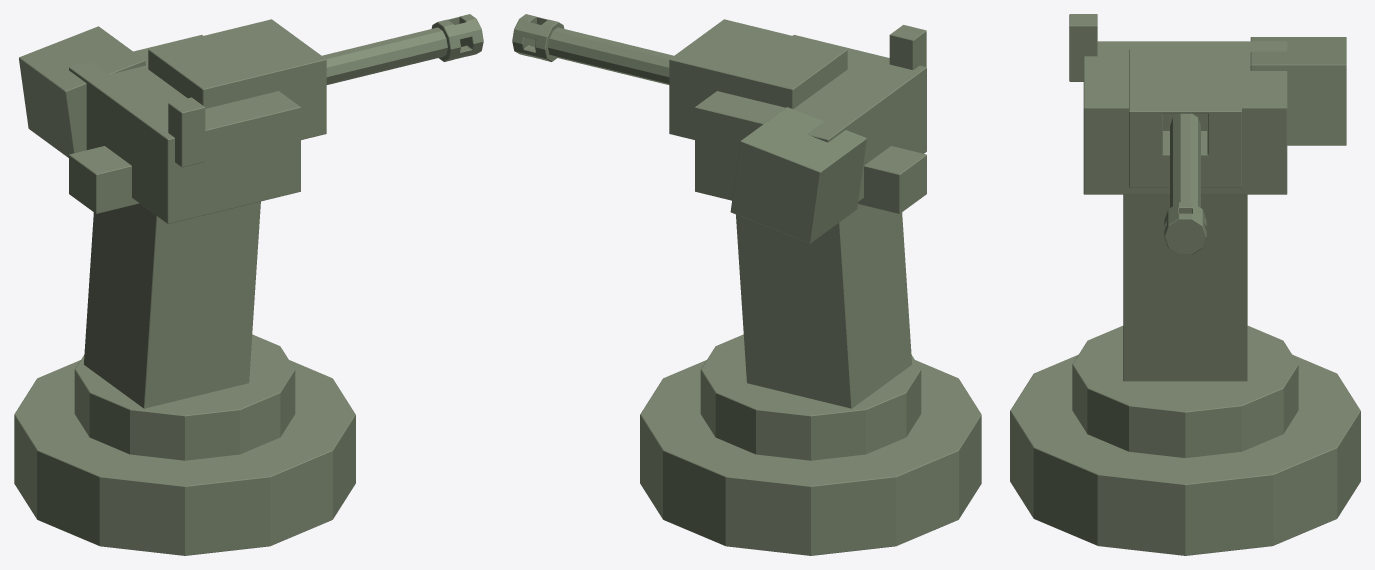
Rendered from turret_fr.glb.
The picture shows the model from 3 angles, left to right: view 1: azimuth 30°, elevation 25°; view 2: azimuth 150°, elevation 25°; view 3: azimuth 270°, elevation 25°; orthographic projection. The views are drawn at different scales.
Parts seen in each view (by area): view 1: turret_fr; view 2: turret_fr; view 3: turret_fr.
Part boxes in pixels (box(x1,y1,x2,y2)): turret_fr: box(14, 14, 483, 555); turret_fr: box(512, 14, 981, 555); turret_fr: box(1010, 14, 1360, 555).
Size of the model in its own units: 1.83 by 1.71 by 1.24.
